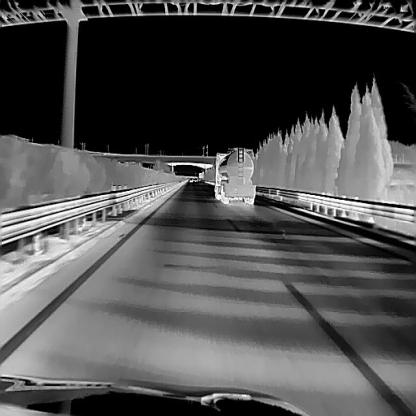truck: (213, 146, 256, 203)
